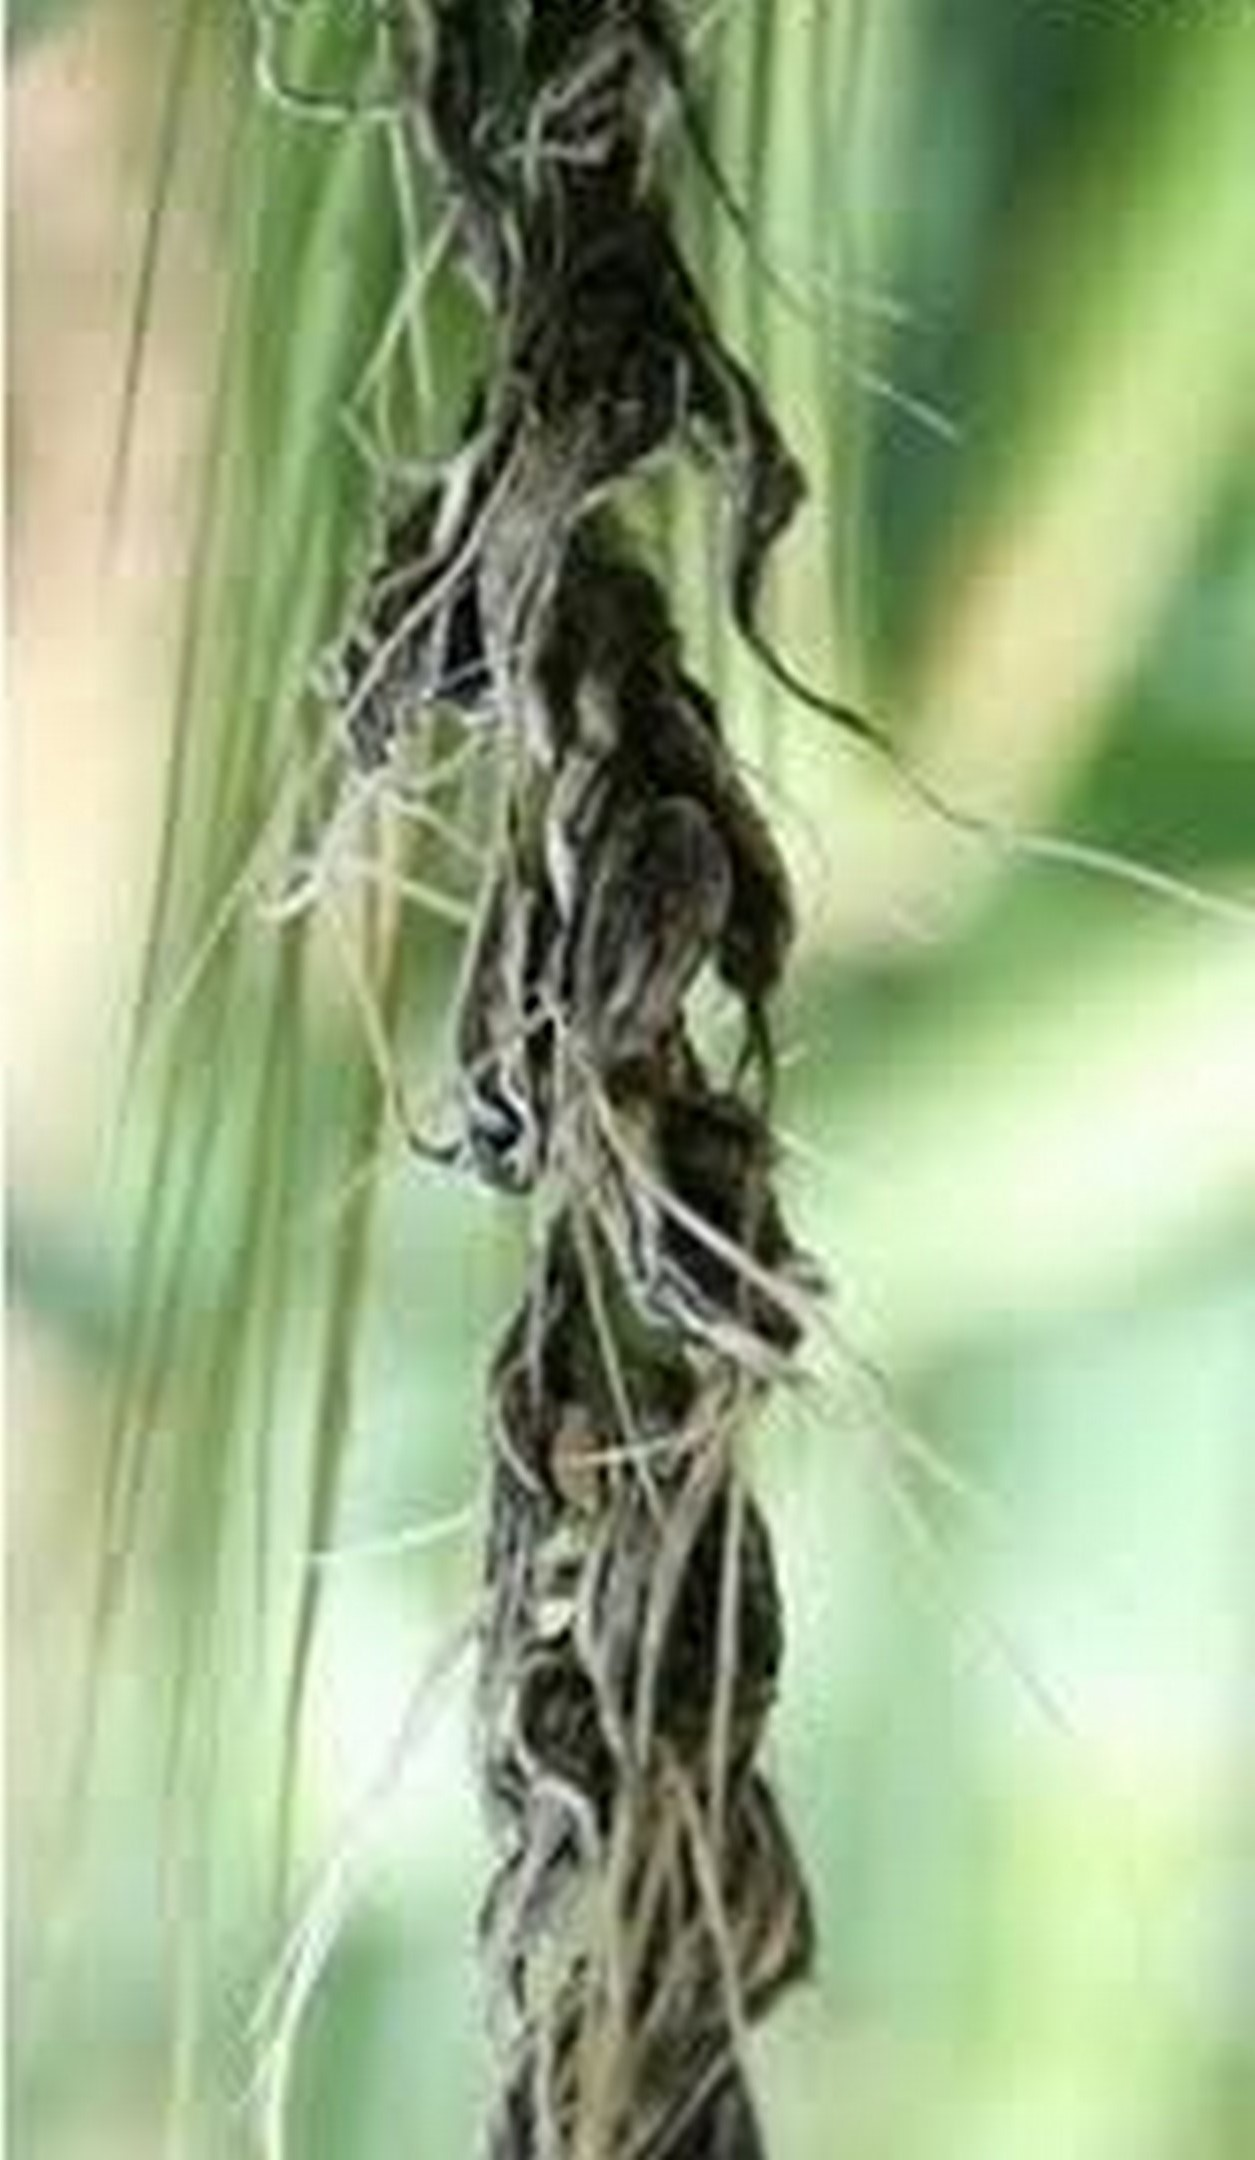Wheat Loose Smut: (300, 40, 911, 2139)
